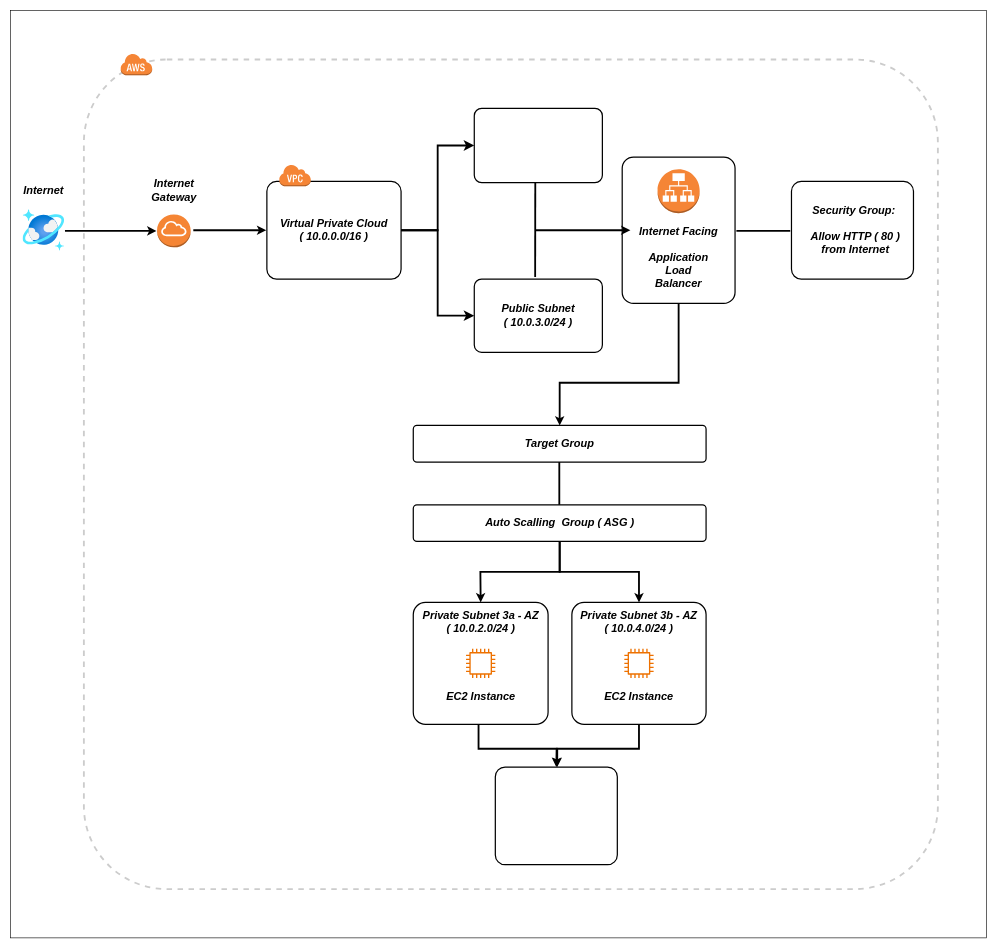
This 997x949 diagram has some shape labels left out. Here are the shapes that lost their labels. From the top down, the box of each, then its label:
(473, 107, 603, 183): Public Subnet ( 10.0.1.0/24 )
(494, 766, 618, 865): Security Group: Allow HTTP ( 80 ) from ALB SG
